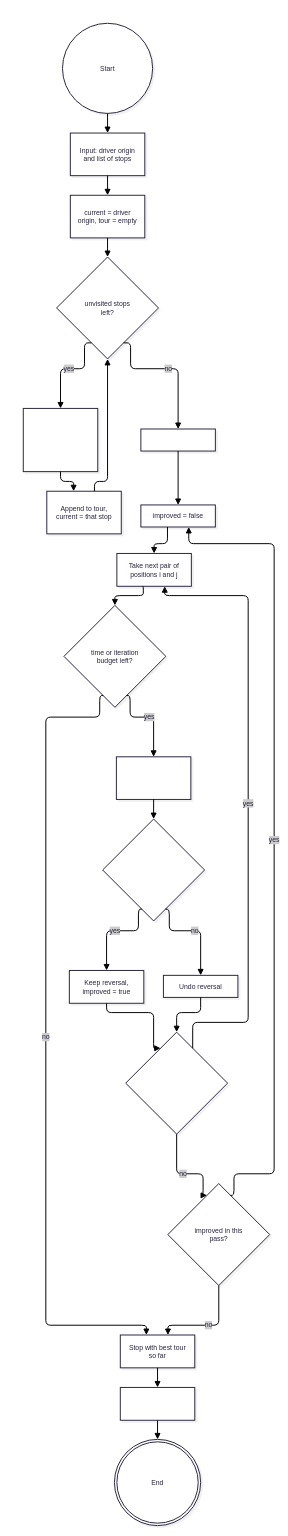
Image size: 288x1536. Some labels were removed from this diagram. Each missing label, with the centre of its shape:
Initial tour built: point (179, 440)
more pairs?: point (177, 1083)
Pick unvisited stop with smallest route distance from current: point (61, 441)
Return ordered stops: point (158, 1404)
Reverse the segment between i and j: point (154, 779)
total route distance smaller?: point (154, 870)
